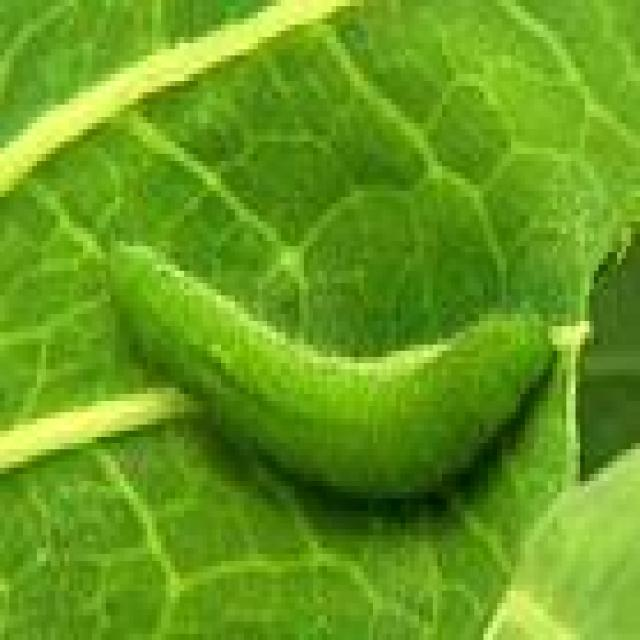BeetArmyWorm-Larva-: (97, 229, 557, 511)
